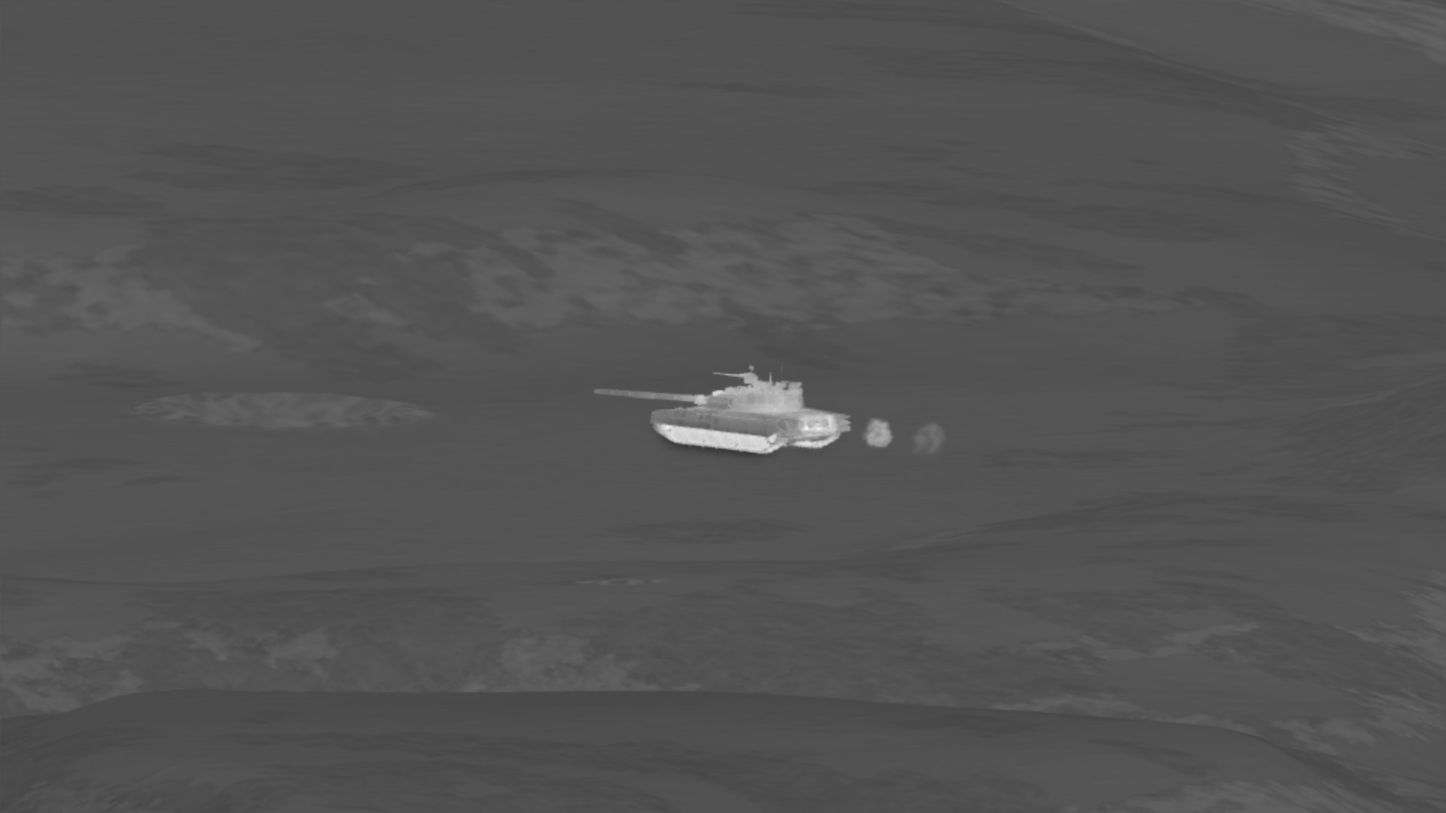t-80u: (593, 371, 853, 454)
